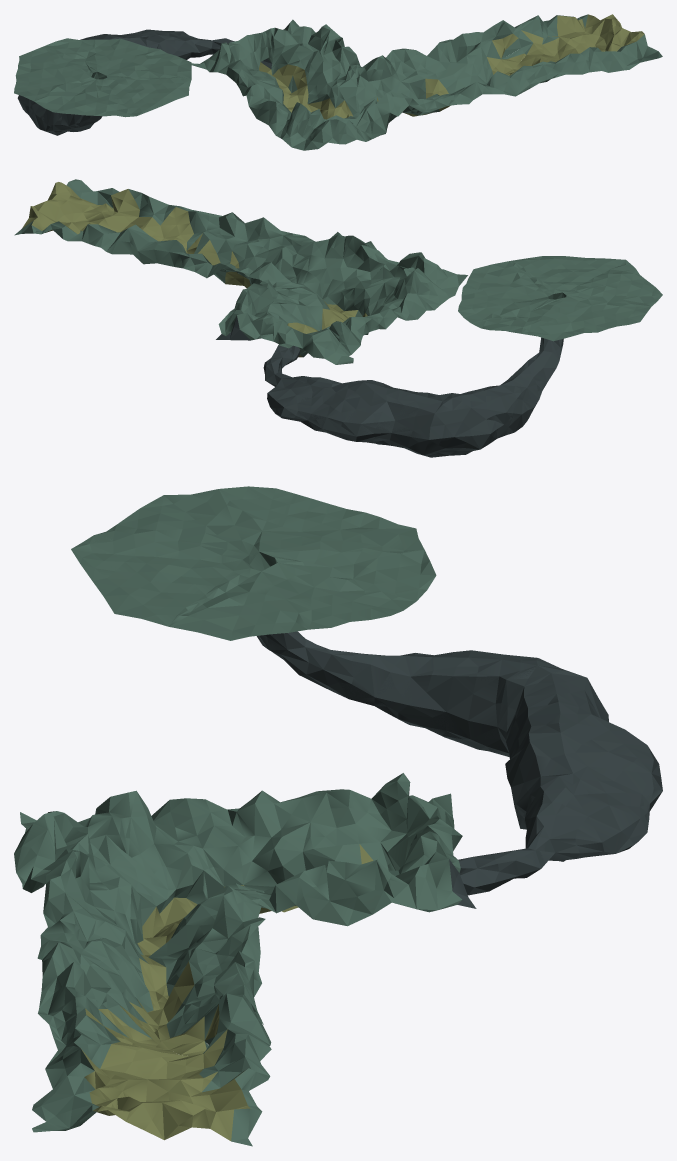
Rendered from sea_bottom2.FBX.
The picture shows the model from 3 angles, top to bottom: view 1: azimuth 30°, elevation 25°; view 2: azimuth 150°, elevation 25°; view 3: azimuth 270°, elevation 25°; orthographic projection. The views are drawn at different scales.
Visible parts, largest first — view 1: Plane002; view 2: Plane002; view 3: Plane002.
Boxes of the visible parts, <box> form: Plane002: <box>14,14,662,150</box>; Plane002: <box>14,179,662,457</box>; Plane002: <box>14,486,662,1146</box>.
Size of the model in its own units: 542 by 277 by 89.3.
